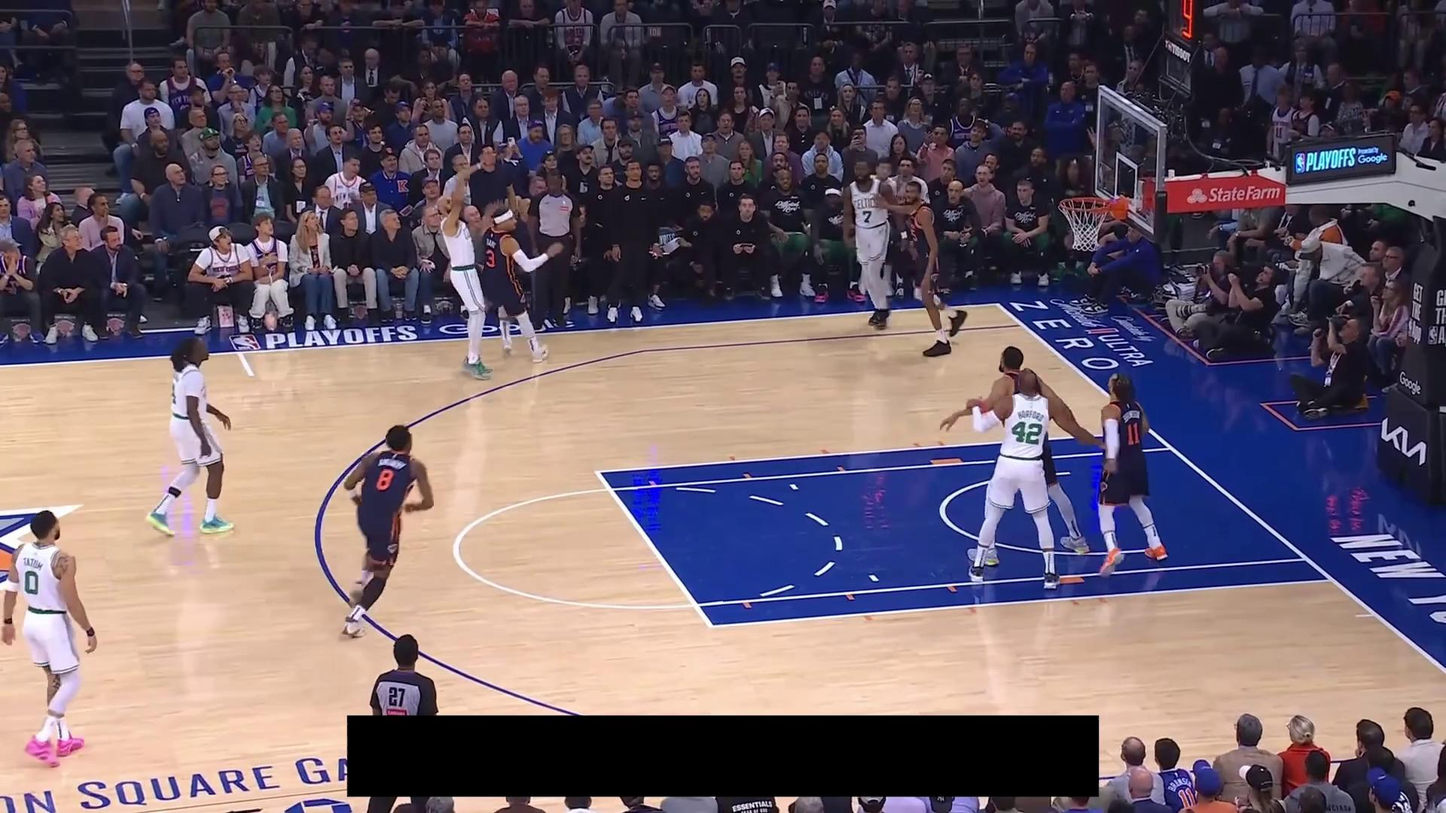number: (1011, 421, 1042, 445), (375, 468, 395, 492), (24, 570, 38, 595), (1126, 422, 1140, 446), (860, 208, 874, 224), (486, 248, 496, 267)
player: (938, 345, 1090, 566), (967, 371, 1106, 590), (0, 510, 98, 770), (337, 422, 435, 641), (145, 333, 237, 540), (874, 179, 969, 358), (1093, 371, 1169, 577), (467, 205, 564, 363), (437, 169, 492, 381), (840, 157, 900, 330)
referee: (369, 634, 441, 813), (526, 170, 582, 330)
rim: (1058, 196, 1112, 212)
